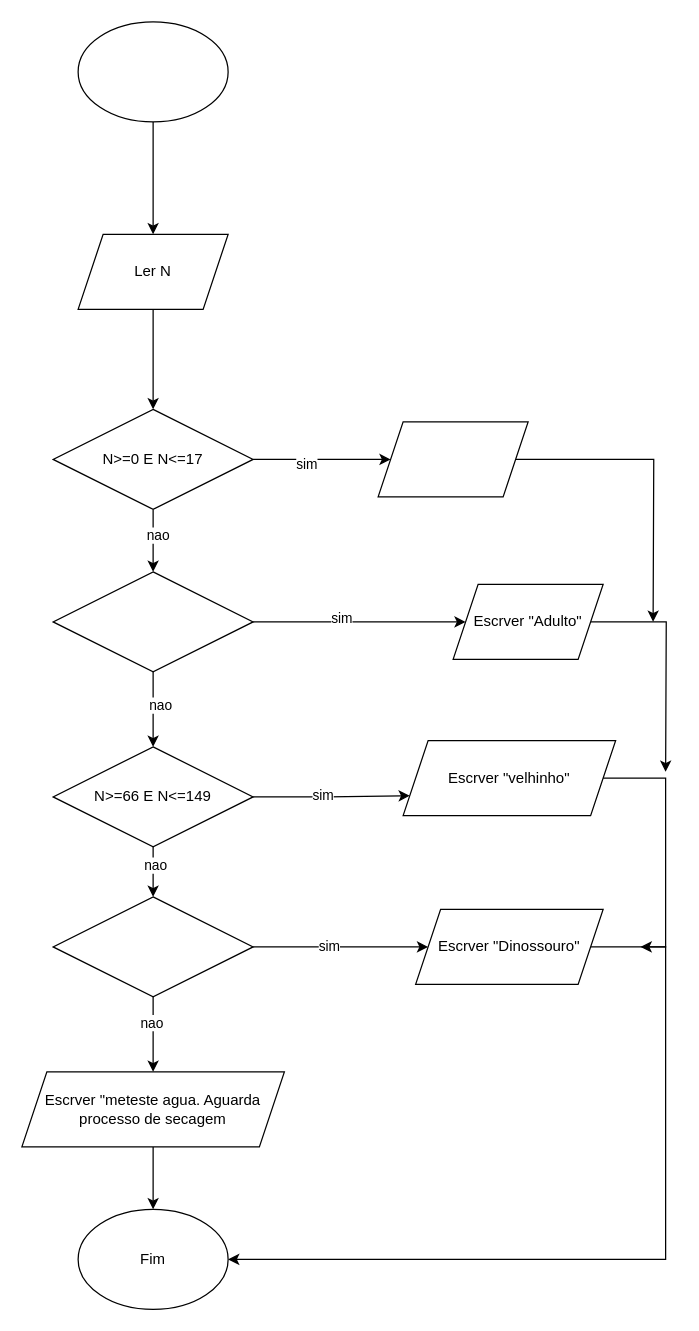
Image size: 699x1331. Some labels were removed from this diagram. Each missing label, with the centre of its shape:
Escrver "puto": pixel 452 459
inicio: pixel 152 71
N>149: pixel 152 946
N>=18 E N<=65: pixel 152 621
